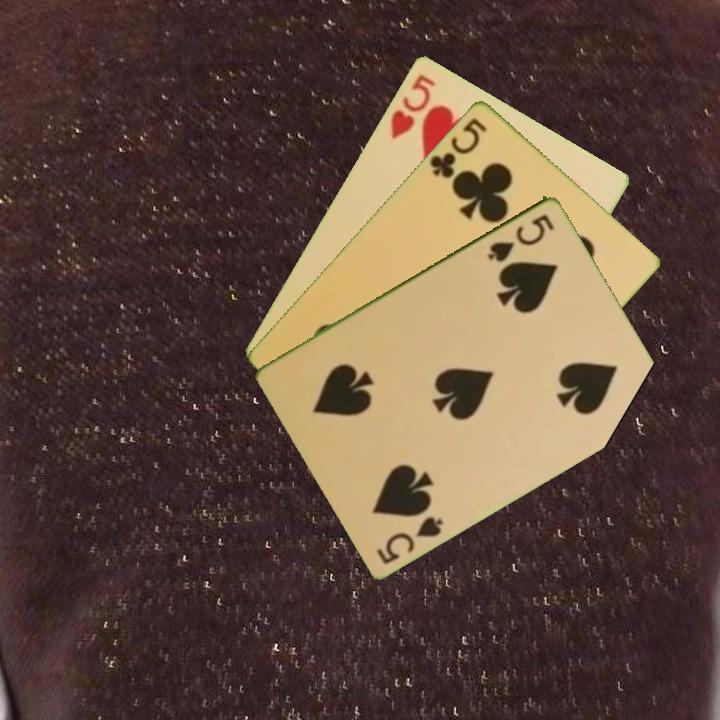5c: (426, 114, 490, 181)
5h: (386, 70, 439, 142)
5s: (483, 210, 557, 265), (373, 512, 446, 567)
